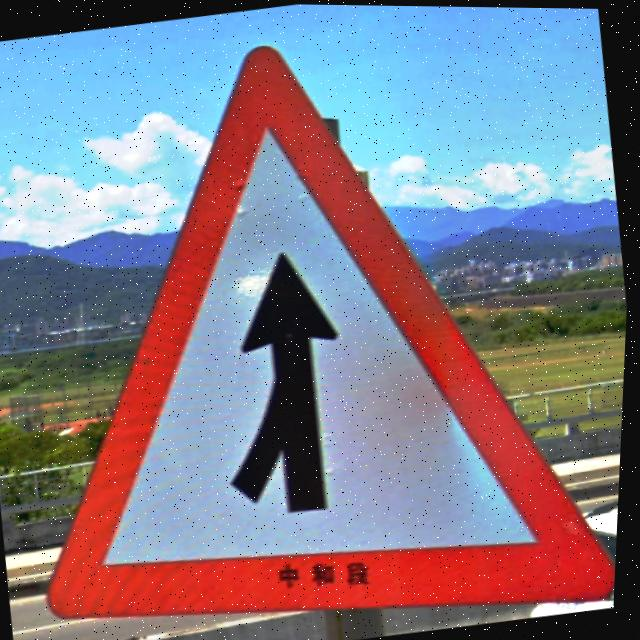leftmerge: (54, 45, 621, 621)
